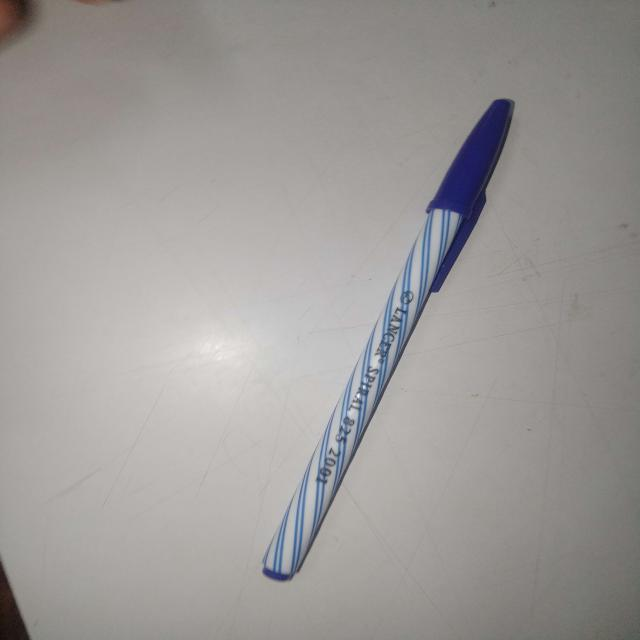pen_pencil: (170, 86, 581, 620)
